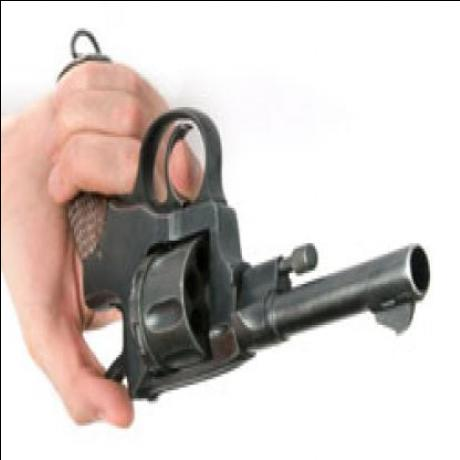1: (0, 62, 204, 432)
weapon: (55, 84, 428, 424)
